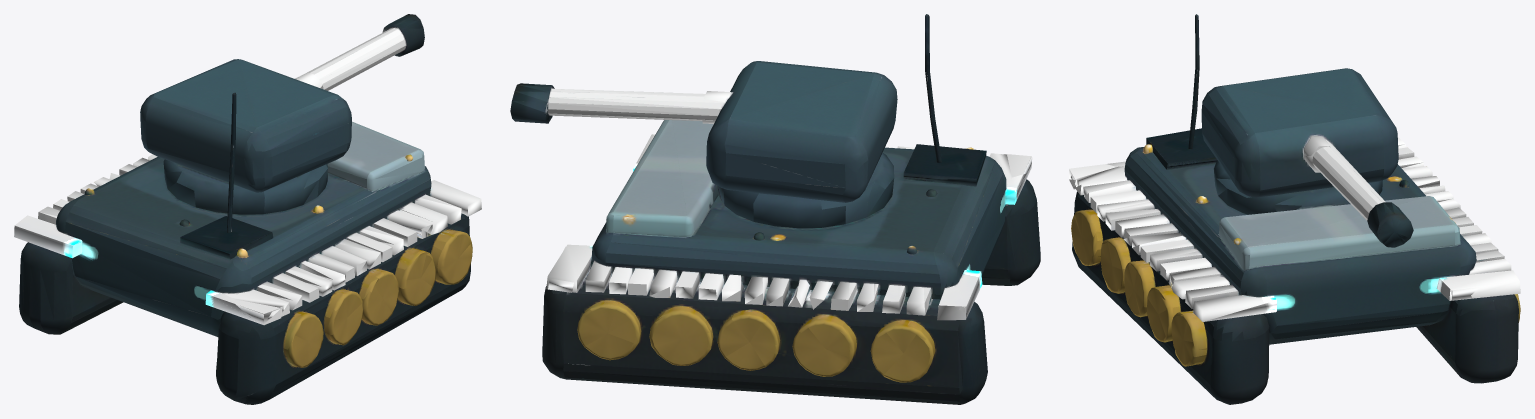
File: shield-tank.glb
3 renders of one model, left to right at view 1: azimuth 30°, elevation 25°; view 2: azimuth 150°, elevation 25°; view 3: azimuth 270°, elevation 25°, orthographic. The views are drawn at different scales.
Bounding box in the file's own units: 1 × 0.6328 × 0.9395.
1 material, 1 textured.
